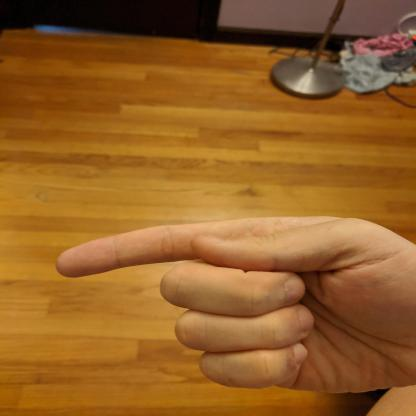G: (56, 216, 416, 393)
